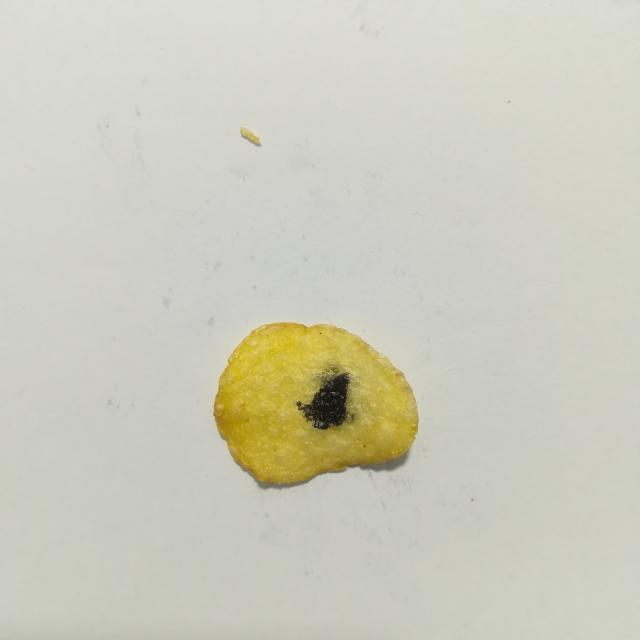chip: (214, 323, 418, 483)
damaged: (296, 373, 350, 430)
semi-damaged: (314, 366, 360, 424)
